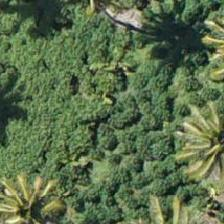coconut_tree: (174, 94, 223, 184), (0, 169, 71, 223)
